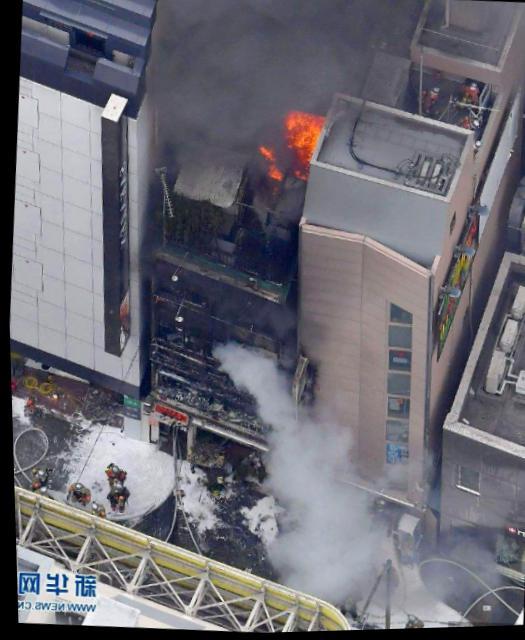fire: (260, 108, 328, 188)
